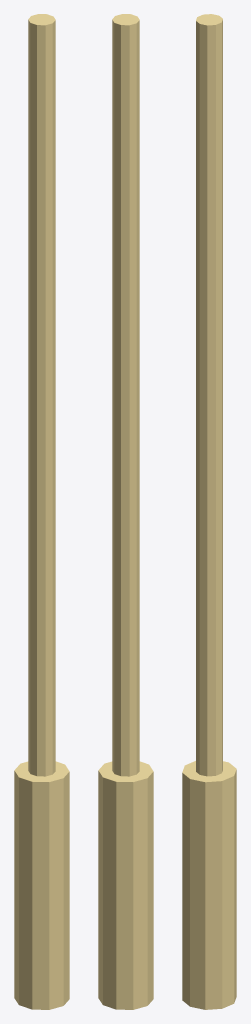
The model's file is pendule-3.fbx.
3 renders of one model, left to right at view 1: azimuth 30°, elevation 25°; view 2: azimuth 210°, elevation 25°; view 3: azimuth 330°, elevation 25°, orthographic.
Parts seen in each view (by area): view 1: Pendule_3; view 2: Pendule_3; view 3: Pendule_3.
Part boxes in pixels (x1,y1,x2,y2): Pendule_3: [14, 14, 69, 1009]; Pendule_3: [98, 14, 153, 1009]; Pendule_3: [182, 14, 236, 1009].
Size of the model in its own units: 0.1659 by 3.25 by 0.1608.
